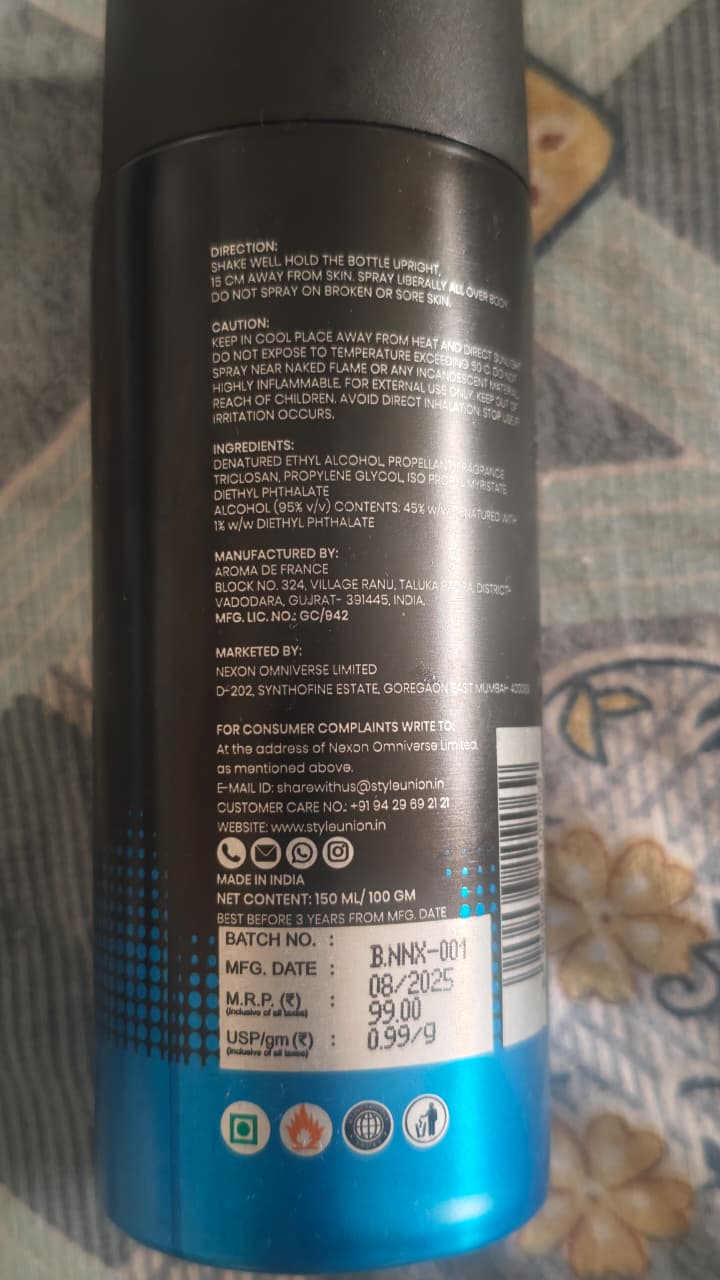EXP_Date: (218, 906, 459, 932)
Ingredients: (210, 436, 528, 545)
MFG_Date: (354, 966, 467, 995)
MRP: (364, 1000, 435, 1027)
